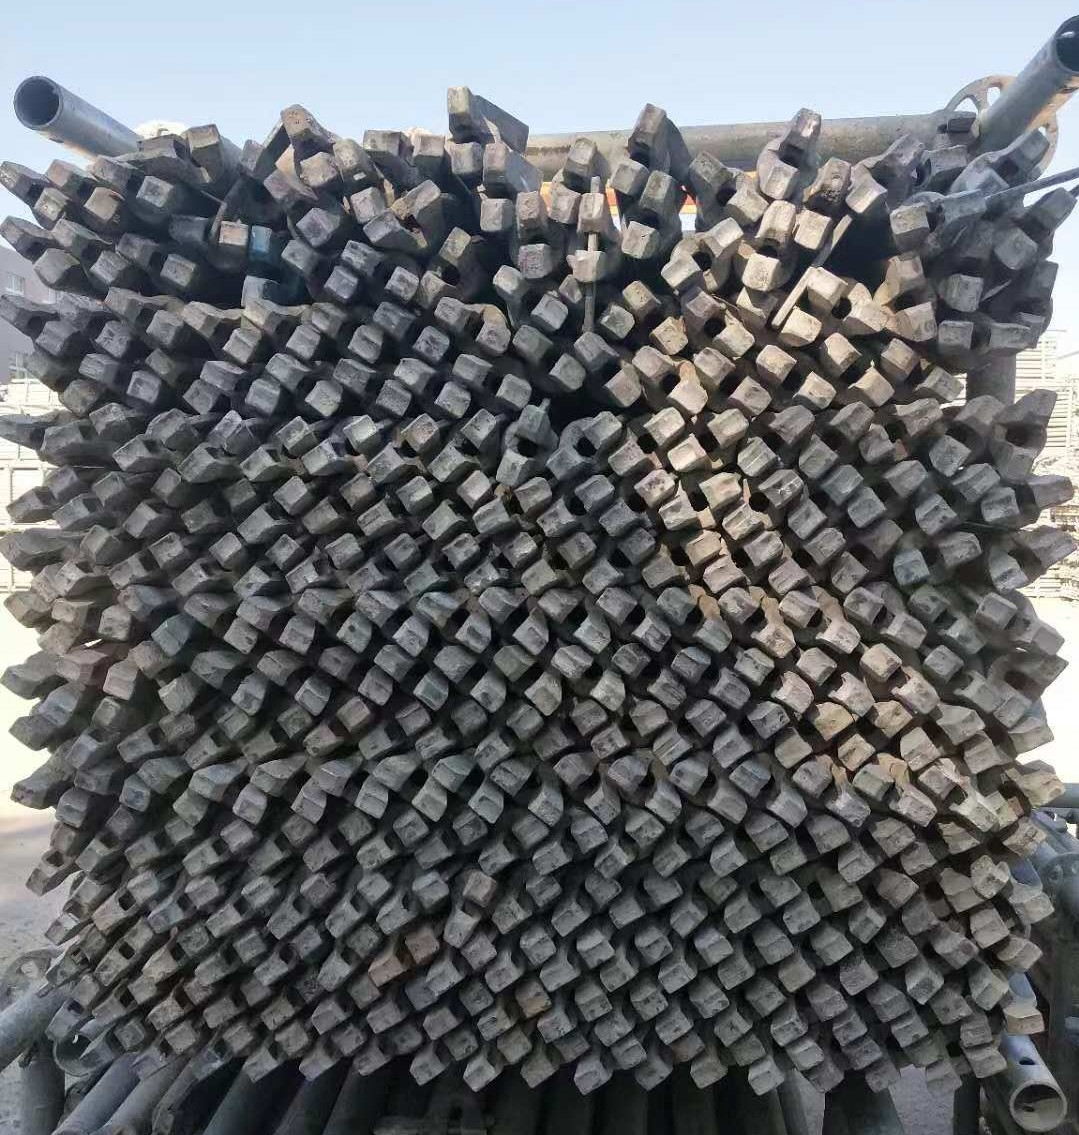NHsquare_steel: (993, 190, 1079, 272), (845, 129, 925, 213), (663, 217, 748, 292), (968, 818, 1046, 897), (782, 462, 862, 539), (760, 105, 825, 199), (720, 470, 805, 541), (972, 126, 1053, 200), (686, 153, 770, 224), (997, 647, 1067, 732), (919, 760, 997, 835), (793, 156, 853, 251), (607, 103, 668, 197), (990, 525, 1077, 590), (800, 403, 872, 481), (821, 331, 893, 408), (860, 645, 940, 713), (806, 269, 889, 335), (985, 761, 1067, 828), (1, 214, 74, 289), (970, 938, 1046, 1010), (832, 519, 903, 596), (924, 642, 1002, 712), (878, 336, 962, 401), (854, 763, 938, 828), (779, 591, 858, 660), (931, 395, 999, 475), (606, 406, 686, 474), (970, 885, 1056, 948), (998, 386, 1055, 481), (46, 156, 120, 229), (720, 589, 796, 660), (50, 220, 128, 289), (126, 635, 192, 715), (887, 188, 988, 241), (536, 474, 617, 540), (902, 704, 984, 769), (917, 464, 992, 535), (265, 171, 333, 249), (740, 200, 796, 293), (861, 398, 941, 464), (92, 156, 177, 218), (429, 408, 499, 482), (739, 405, 814, 475), (847, 460, 924, 528), (702, 533, 785, 596), (622, 278, 689, 356), (364, 178, 442, 245), (58, 290, 131, 361), (734, 649, 815, 712), (511, 324, 586, 393), (656, 471, 742, 531), (41, 404, 131, 461), (365, 414, 438, 484), (632, 346, 706, 414), (239, 474, 313, 543), (769, 528, 845, 595), (790, 761, 867, 827), (977, 598, 1063, 657), (279, 99, 335, 188), (798, 650, 876, 714), (114, 231, 198, 292), (691, 351, 770, 414), (853, 871, 922, 943), (21, 349, 95, 417), (298, 588, 372, 656), (658, 589, 733, 656), (606, 755, 682, 821), (964, 715, 1052, 772), (491, 267, 568, 331), (902, 876, 985, 935), (842, 698, 913, 768), (2, 588, 74, 657), (668, 650, 748, 711), (734, 760, 807, 827), (579, 332, 643, 408), (374, 647, 450, 711), (106, 286, 183, 350), (887, 249, 939, 343), (757, 348, 835, 410), (178, 412, 247, 483), (3, 660, 72, 731), (146, 348, 218, 415), (668, 408, 748, 469), (945, 220, 998, 312), (415, 591, 491, 655), (610, 644, 687, 706), (190, 651, 267, 713), (712, 701, 789, 764), (418, 226, 475, 311), (265, 872, 335, 940), (913, 585, 984, 653), (431, 757, 503, 824), (903, 932, 970, 1004), (241, 299, 320, 360), (848, 589, 927, 650), (470, 476, 556, 532), (182, 299, 256, 364), (432, 648, 506, 712), (583, 532, 658, 596), (372, 754, 447, 818), (395, 358, 471, 421), (340, 241, 421, 300), (400, 534, 481, 593), (547, 650, 628, 708), (65, 697, 127, 774), (669, 760, 746, 822), (654, 810, 724, 878), (686, 291, 757, 358), (331, 136, 385, 224), (548, 413, 621, 478), (597, 588, 670, 653), (838, 817, 911, 882), (305, 303, 384, 363), (50, 472, 129, 532), (235, 596, 314, 656), (181, 593, 255, 657), (240, 420, 315, 482), (779, 927, 854, 990), (738, 292, 822, 348), (302, 418, 379, 478), (54, 522, 114, 599), (895, 532, 982, 586), (122, 586, 188, 656), (2, 295, 76, 358), (268, 357, 342, 420), (255, 653, 329, 715), (314, 649, 393, 707), (535, 931, 614, 990), (108, 533, 191, 589), (650, 701, 726, 762), (465, 532, 542, 592), (435, 297, 513, 356), (333, 361, 411, 420), (776, 703, 854, 762), (356, 593, 429, 656), (602, 471, 676, 533), (198, 362, 283, 415), (374, 303, 449, 364), (357, 474, 433, 534), (596, 929, 672, 989), (112, 413, 192, 470), (235, 534, 304, 600), (376, 871, 448, 933), (4, 462, 82, 520), (718, 928, 793, 988), (482, 591, 549, 658), (1, 158, 67, 226), (422, 472, 490, 538), (7, 713, 76, 778), (74, 355, 162, 405), (492, 648, 562, 711), (493, 762, 564, 825), (255, 762, 327, 824), (2, 533, 63, 606), (135, 122, 224, 171), (720, 875, 802, 928), (482, 931, 557, 990), (669, 867, 735, 934), (783, 877, 862, 932), (362, 925, 441, 981), (839, 935, 918, 991), (183, 706, 252, 770), (549, 132, 596, 226), (558, 755, 621, 825), (281, 245, 357, 303), (591, 701, 668, 758), (658, 929, 735, 986), (205, 875, 278, 934), (190, 768, 268, 824), (771, 984, 849, 1040), (140, 762, 205, 829), (348, 533, 422, 591), (300, 697, 375, 755), (357, 700, 432, 758), (625, 171, 675, 258), (190, 931, 269, 986), (576, 1036, 648, 1095), (496, 406, 548, 489), (114, 710, 198, 762), (978, 475, 1074, 520), (771, 815, 848, 871), (239, 704, 312, 763), (148, 875, 221, 933), (314, 924, 379, 990), (453, 356, 531, 410), (286, 535, 361, 592), (442, 871, 498, 945), (242, 1020, 312, 1081), (441, 82, 485, 177), (176, 533, 247, 593), (708, 815, 784, 871), (92, 869, 158, 933), (522, 532, 596, 589), (425, 935, 498, 992), (543, 592, 611, 654), (418, 700, 488, 760), (253, 925, 324, 984), (634, 1032, 706, 1089), (477, 706, 543, 769), (325, 871, 391, 933), (642, 533, 722, 585), (463, 1031, 532, 1090), (899, 819, 977, 872), (126, 470, 183, 541), (186, 819, 257, 877), (300, 813, 371, 871), (60, 648, 139, 699), (24, 824, 81, 896), (490, 872, 562, 928), (367, 976, 439, 1033), (598, 813, 662, 877), (92, 920, 156, 984), (532, 700, 605, 756), (360, 812, 428, 872), (10, 777, 90, 828), (926, 1043, 1006, 1093), (45, 876, 102, 945), (478, 984, 553, 1038), (317, 762, 389, 818), (718, 982, 785, 1042), (692, 1034, 765, 1088), (658, 985, 731, 1039), (479, 814, 549, 871), (76, 1019, 146, 1076), (807, 1038, 882, 1090), (890, 993, 971, 1042), (77, 807, 136, 874), (536, 988, 612, 1040), (552, 875, 620, 932), (142, 925, 210, 983), (303, 476, 374, 531), (248, 815, 312, 876), (750, 1038, 822, 1091), (1014, 261, 1058, 350), (126, 815, 196, 869), (411, 1027, 478, 1083), (423, 986, 495, 1039), (520, 1033, 592, 1085), (570, 195, 612, 286), (831, 989, 907, 1039), (598, 990, 671, 1042), (478, 143, 518, 238), (47, 600, 133, 644), (957, 1004, 1046, 1047), (361, 124, 445, 168), (420, 812, 486, 868), (534, 817, 605, 869), (867, 1040, 942, 1089), (299, 1025, 364, 1081), (311, 977, 379, 1031), (610, 875, 682, 925), (514, 190, 553, 282), (260, 972, 325, 1028), (203, 978, 275, 1028), (355, 1022, 425, 1072), (182, 483, 256, 531), (45, 977, 100, 1040), (168, 212, 252, 253), (941, 317, 1031, 356), (92, 977, 162, 1027), (133, 1022, 199, 1074), (43, 931, 105, 985), (192, 1024, 255, 1077), (239, 222, 277, 311), (152, 976, 218, 1026), (79, 769, 152, 814)
circle_steel: (1008, 1070, 1070, 1135), (7, 70, 68, 135), (1046, 11, 1079, 79)
